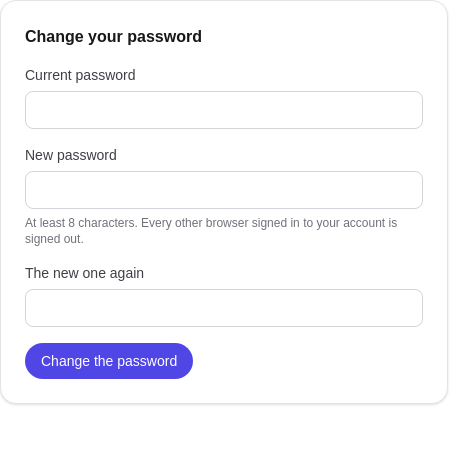
it: changing the password (ACCT-004) › says when the current password isn't right
In the password field labelled "Current password": (224, 110) 25,91 -> 423,129, type "a guess"
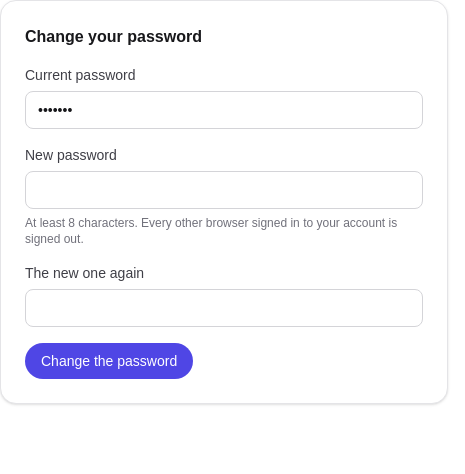
In the password field labelled "New password": (224, 190) 25,171 -> 423,209, type "my new long password"
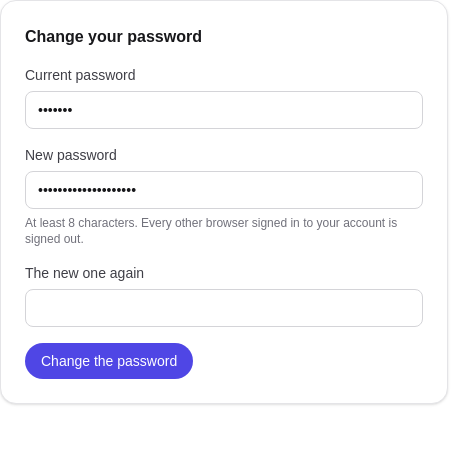
In the password field labelled "The new one again": (224, 308) 25,289 -> 423,327, type "my new long password"
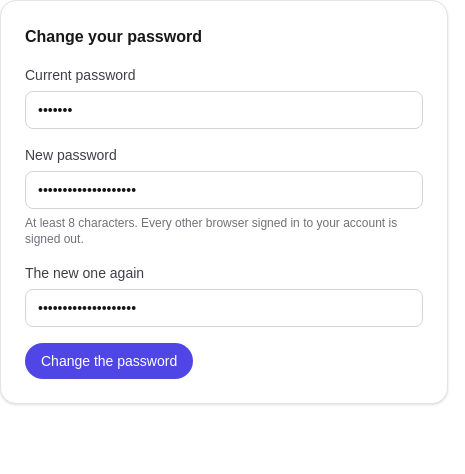
Click the button "Change the password": (109, 361) 25,343 -> 193,379
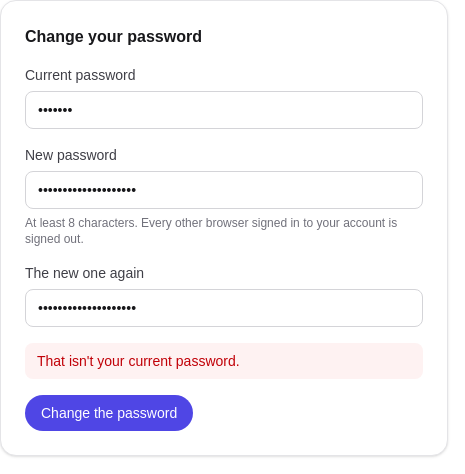
Expected: the message reads "That isn't your current password.", 37,353 -> 240,369
